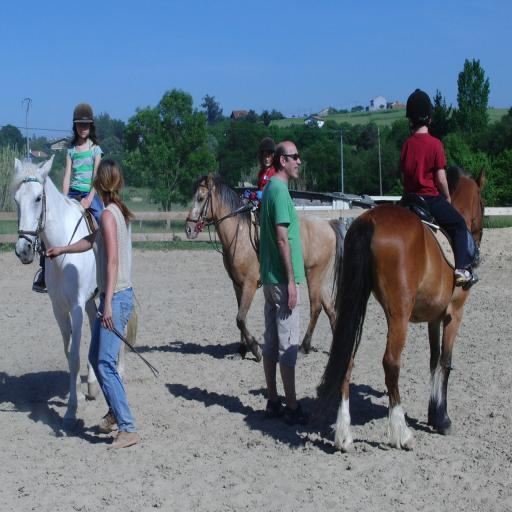horse: (316, 160, 487, 456), (12, 154, 140, 434), (183, 170, 349, 362)
